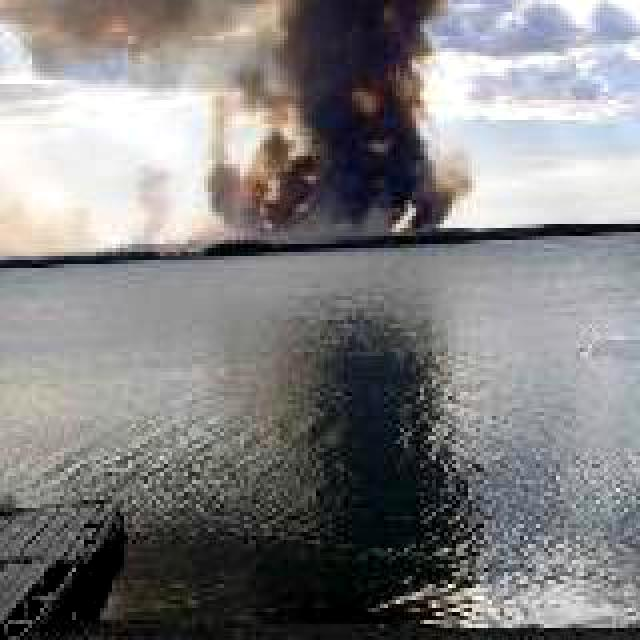smoke: (148, 0, 468, 236)
